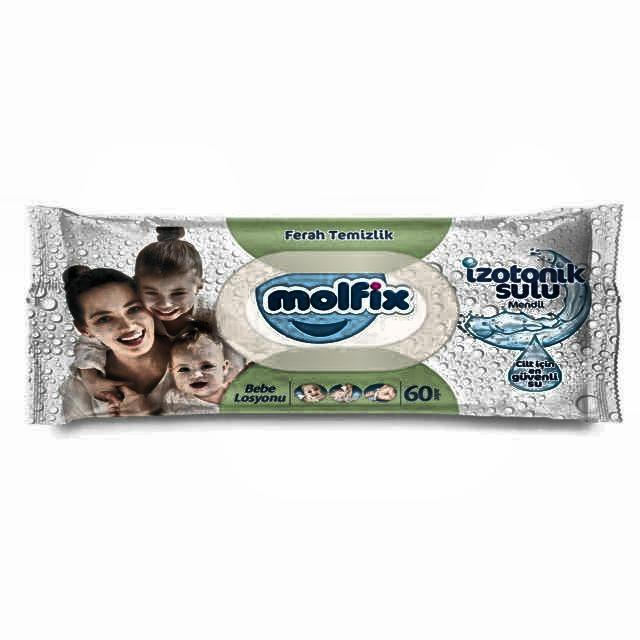plastic: (0, 204, 611, 424)
